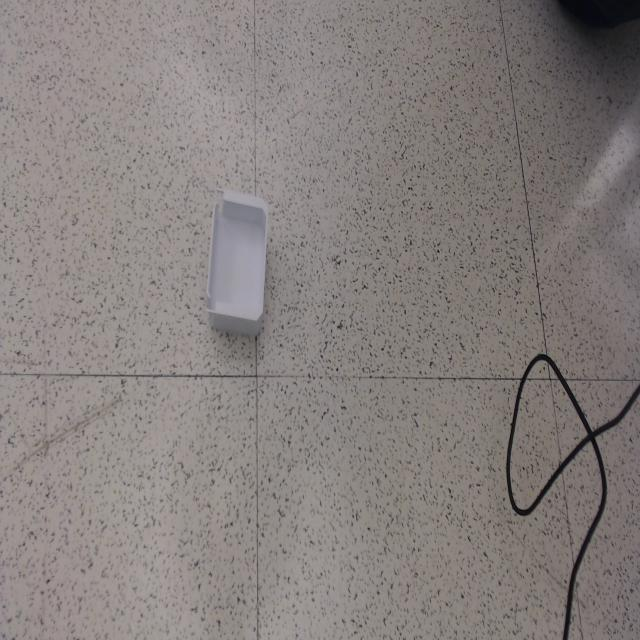wbox: (204, 188, 269, 339)
